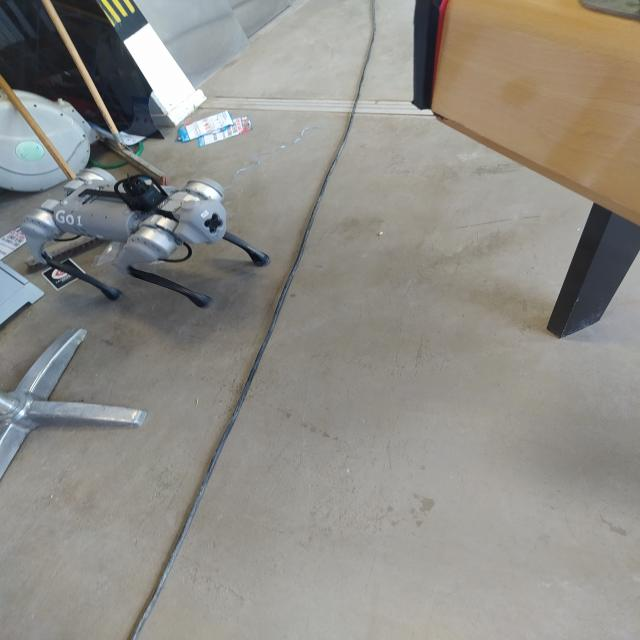unitree-go1-robot: (32, 172, 270, 314)
